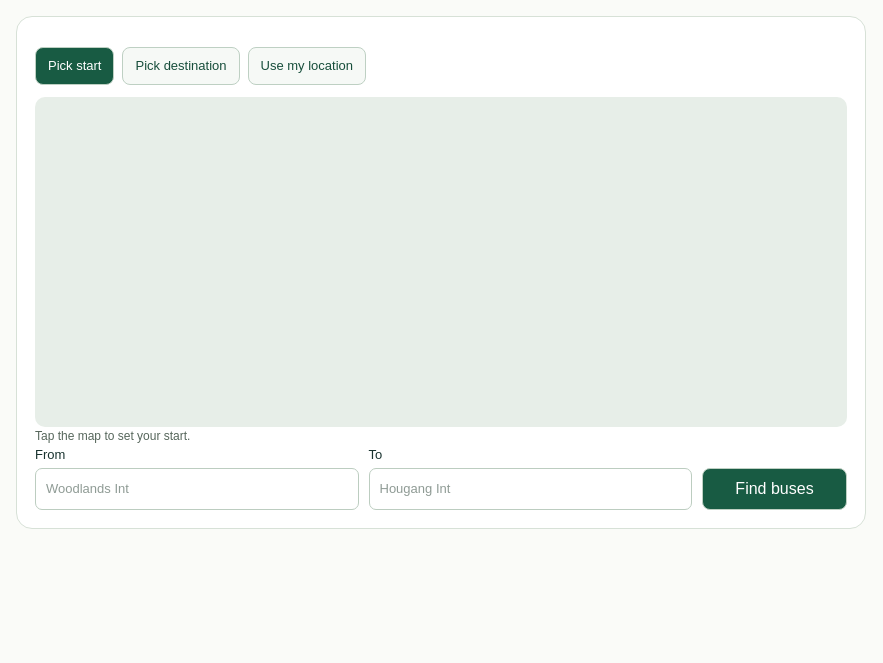
Test: JourneyMap › sends typed coordinates as a point
Type "1.437, 103.786" into the field labelled "From" at [197, 489], box [35,468,358,510]
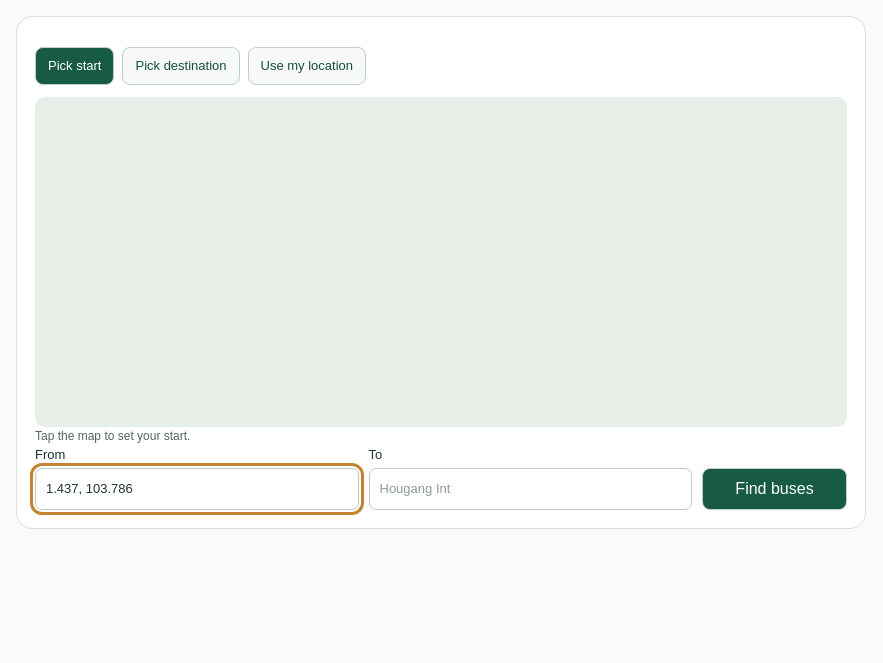
Type "66009" into the field labelled "To" at [530, 489], box [368,468,692,510]
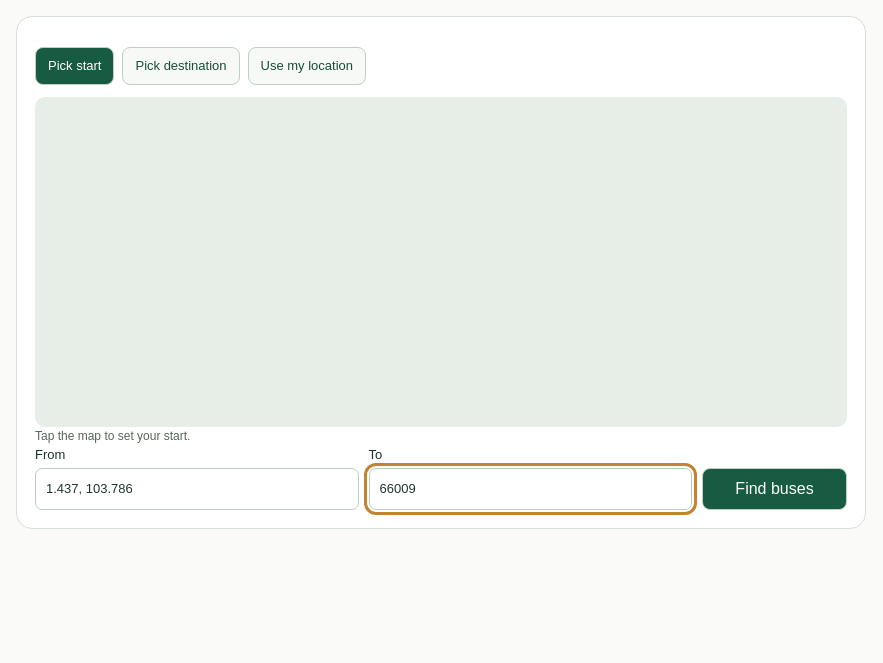
Click the button "Find buses" at [774, 488], box [702,468,847,510]
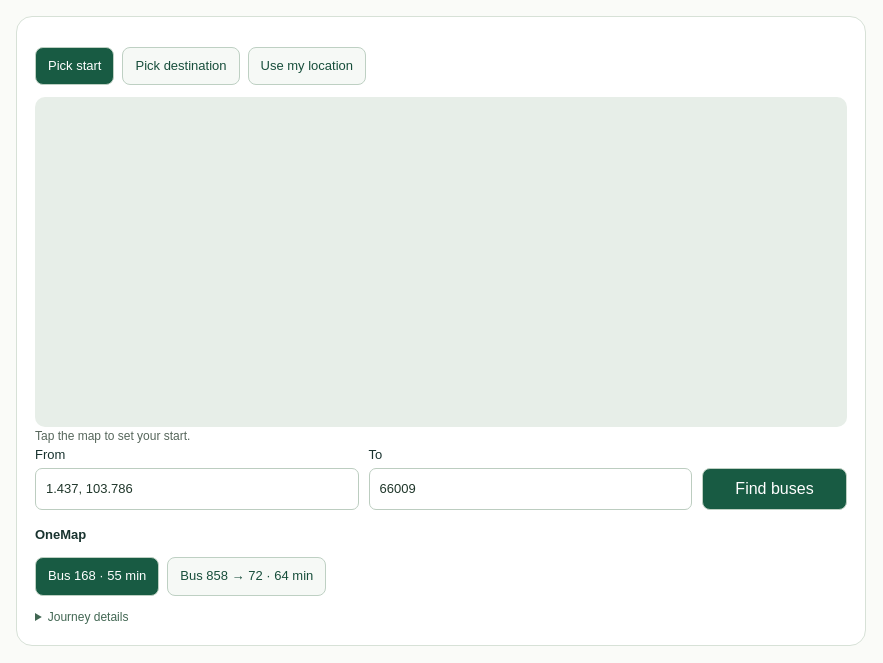
Check: the button "Bus 168 · 55 min" is shown, box [35,557,159,596]
